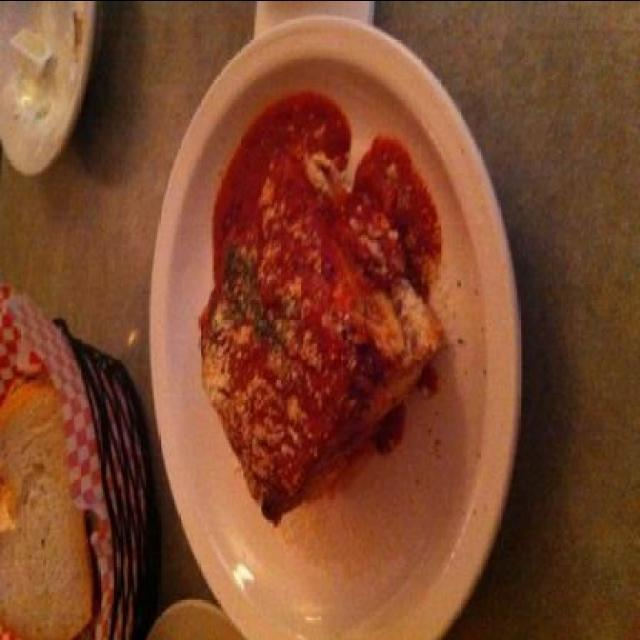Lasagna: (195, 153, 428, 522)
